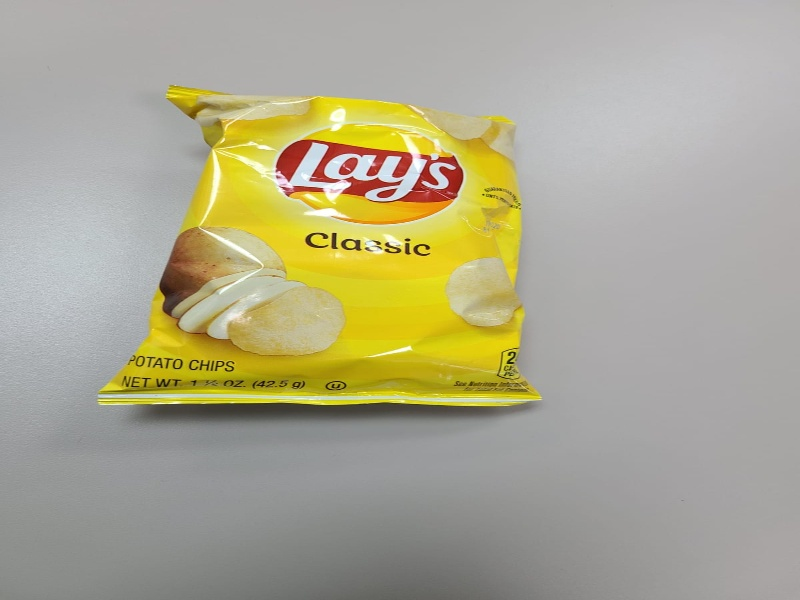lays: (73, 79, 574, 439)
